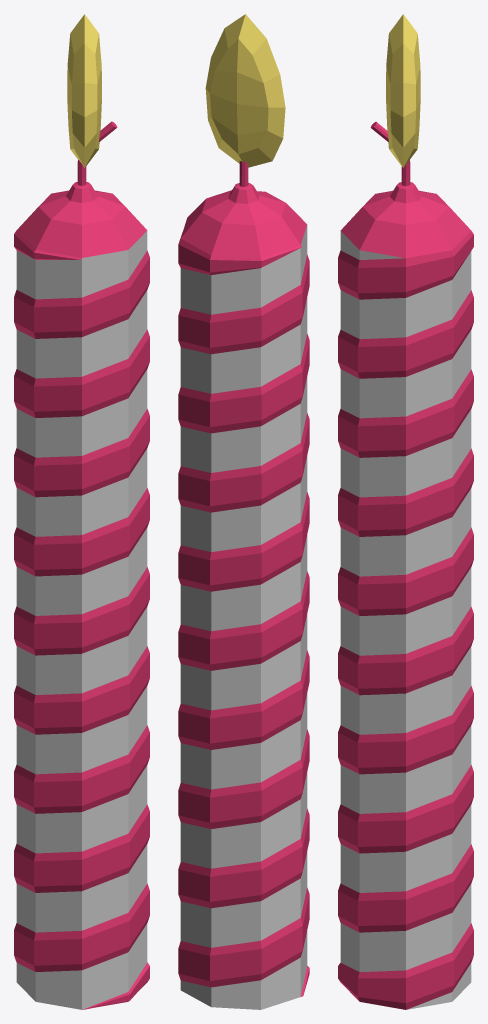
Rendered from candle.fbx.
3 renders of one model, left to right at view 1: azimuth 90°, elevation 25°; view 2: azimuth 150°, elevation 25°; view 3: azimuth 270°, elevation 25°, orthographic.
Parts seen in each view (by area): view 1: birthday candle; view 2: birthday candle; view 3: birthday candle.
Boxes of the visible parts, bbox=[...] form: birthday candle: bbox=[14, 14, 149, 1009]; birthday candle: bbox=[178, 14, 309, 1009]; birthday candle: bbox=[338, 14, 473, 1009].
Bounding box in the file's own units: 156 × 1224 × 156.
